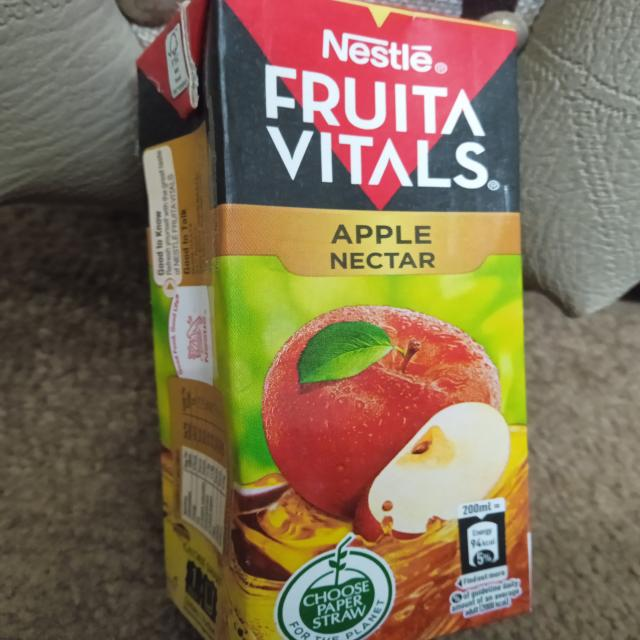Plastic: (116, 0, 568, 640)
